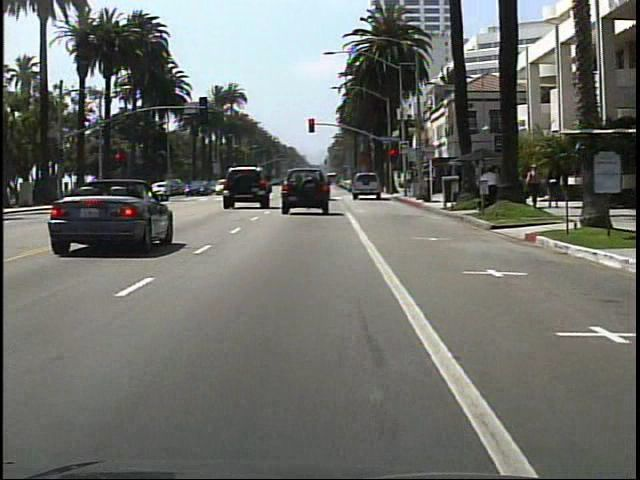person: (478, 164, 502, 210), (525, 160, 545, 211)
